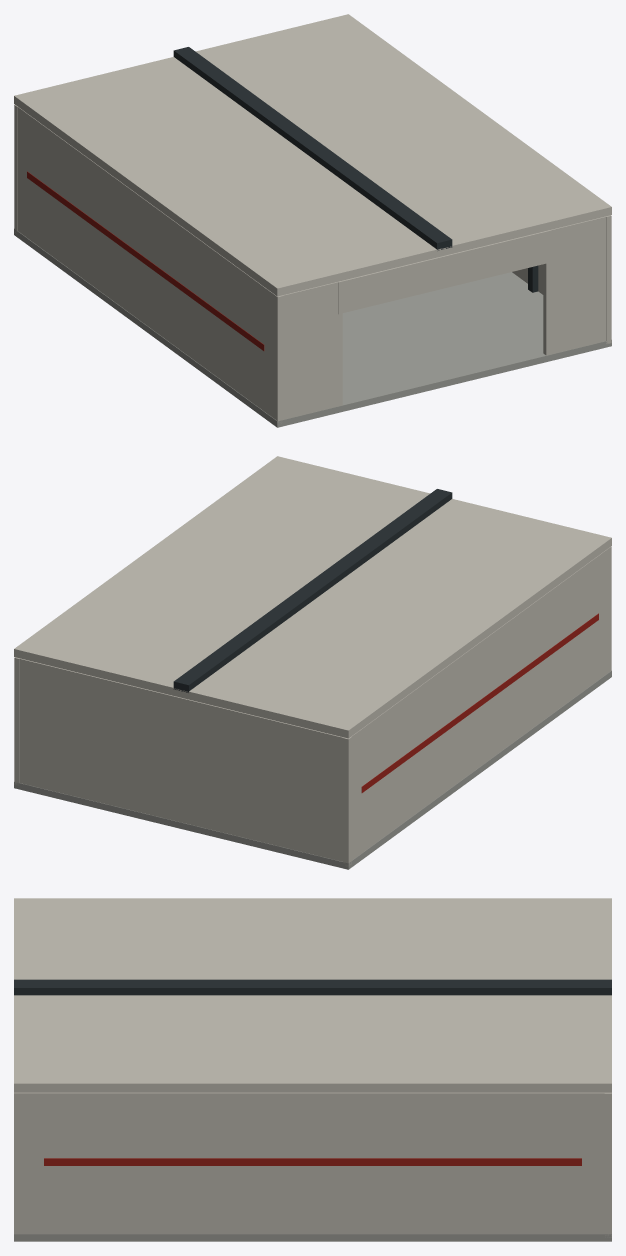
3 renders of one model, top to bottom at view 1: azimuth 30°, elevation 25°; view 2: azimuth 150°, elevation 25°; view 3: azimuth 270°, elevation 25°, orthographic. The views are drawn at different scales.
Visible parts, largest first — view 1: warehouse-roof-painted, fleet-warehouse-painted; view 2: warehouse-roof-painted, fleet-warehouse-painted; view 3: warehouse-roof-painted, fleet-warehouse-painted.
Part boxes in pixels (box(x1,y1,x2,y2)): warehouse-roof-painted: box(14, 14, 611, 296); fleet-warehouse-painted: box(14, 104, 611, 427); warehouse-roof-painted: box(14, 456, 611, 738); fleet-warehouse-painted: box(14, 546, 611, 869); warehouse-roof-painted: box(14, 898, 611, 1092); fleet-warehouse-painted: box(14, 1092, 611, 1241).
Size of the model in its own units: 116 by 48.16 by 158.
